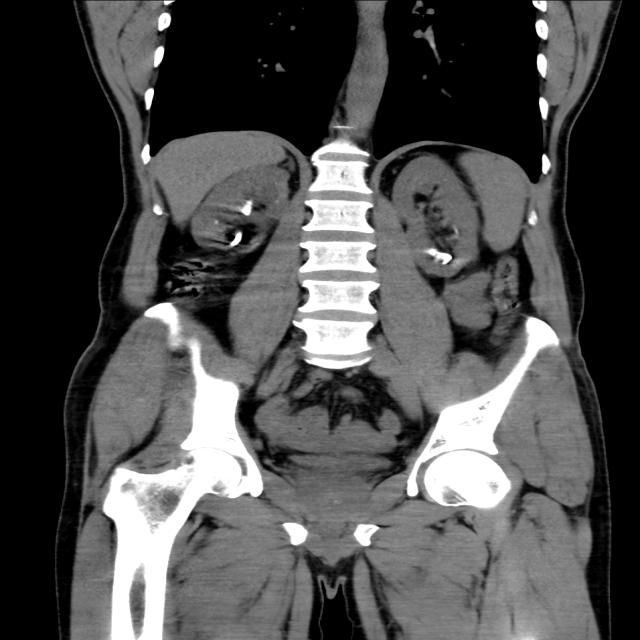kidneystone: (428, 249, 452, 265), (241, 200, 252, 215)
